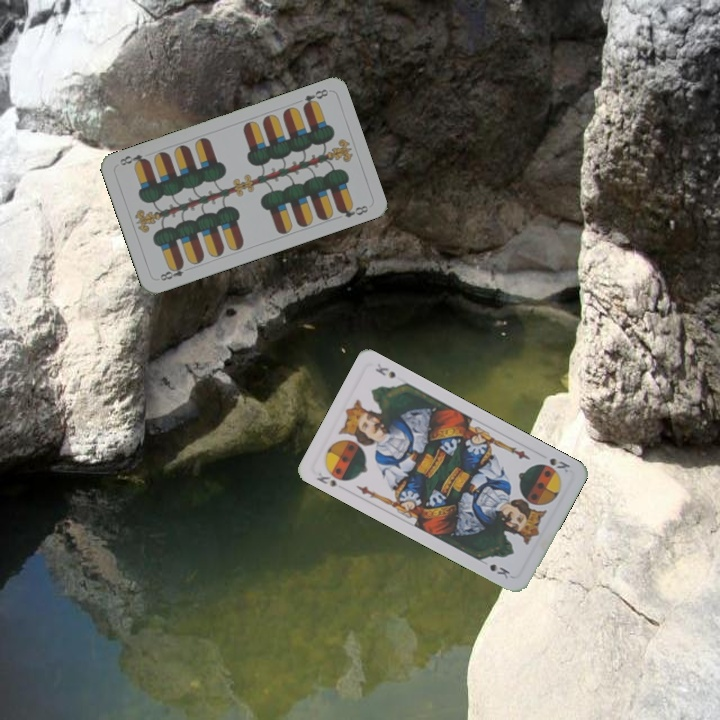E8: (299, 85, 331, 111), (156, 260, 187, 283)
SK: (545, 454, 573, 476), (312, 468, 339, 489)
